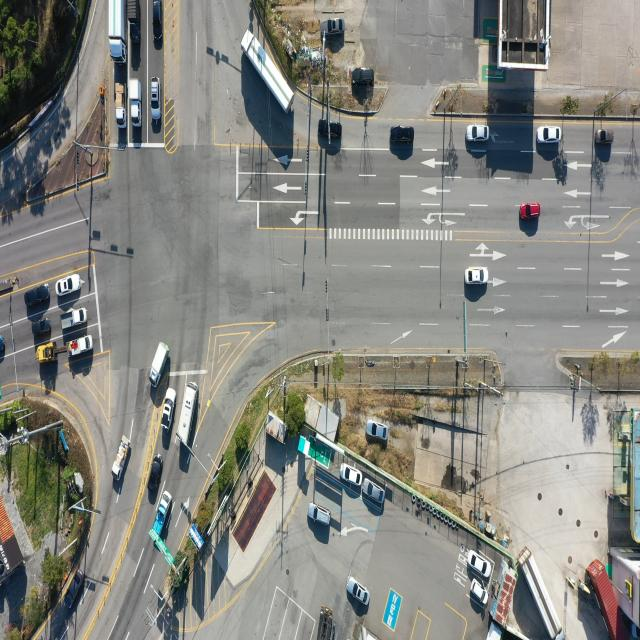car: (317, 117, 341, 146), (66, 570, 84, 607), (348, 576, 370, 606), (163, 386, 177, 430), (470, 552, 492, 578), (364, 480, 386, 506), (148, 456, 162, 495), (57, 275, 81, 297), (310, 504, 330, 528), (25, 286, 49, 306), (152, 0, 162, 48), (342, 463, 363, 485), (472, 580, 489, 607), (365, 420, 387, 440), (538, 126, 562, 144), (464, 268, 488, 286), (352, 66, 374, 85), (357, 62, 379, 81), (466, 125, 489, 143), (150, 77, 159, 121), (32, 318, 52, 336), (324, 18, 344, 36), (520, 203, 540, 220), (594, 130, 614, 146)
medium_truck: (244, 29, 296, 116), (522, 548, 564, 638), (110, 0, 128, 60), (320, 601, 334, 640)
small_bus: (178, 383, 201, 447)
small_truck: (147, 488, 172, 547), (149, 341, 168, 384), (114, 435, 132, 477), (130, 78, 143, 126), (128, 0, 140, 48), (68, 336, 93, 358), (114, 82, 125, 128), (66, 306, 88, 327), (391, 126, 415, 145)
